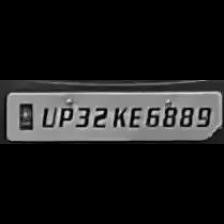5: (90, 103, 108, 129), (75, 103, 92, 129)
6: (143, 102, 161, 128)
8: (176, 100, 194, 127), (160, 102, 176, 128)
9: (194, 104, 214, 128)
E: (124, 103, 142, 129)
K: (108, 103, 128, 129)
P: (52, 102, 72, 128)
U: (39, 101, 57, 128)
